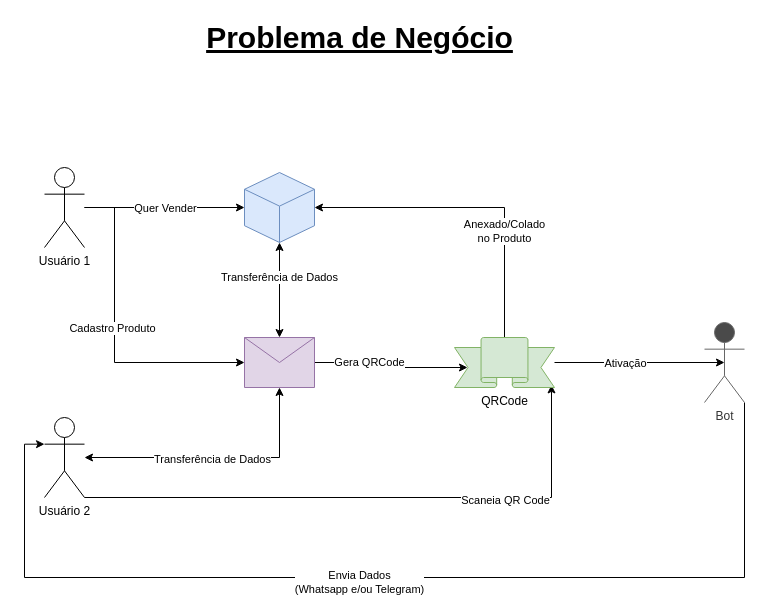
This 770x612 diagram has some shape labels left out. Each missing label, with the centre of its shape:
"Aplicação" belongs at pixel 279 362.
"Produto" belongs at pixel 279 207.
